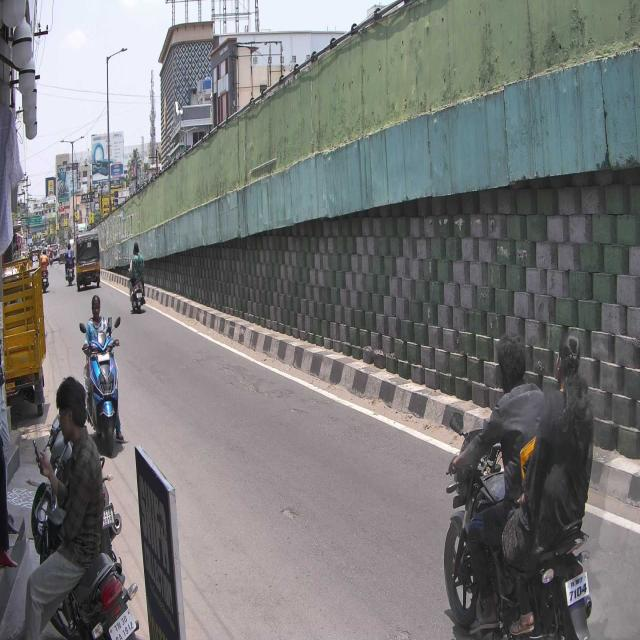double_rider: (443, 327, 599, 640)
single_rider: (78, 295, 129, 459)
